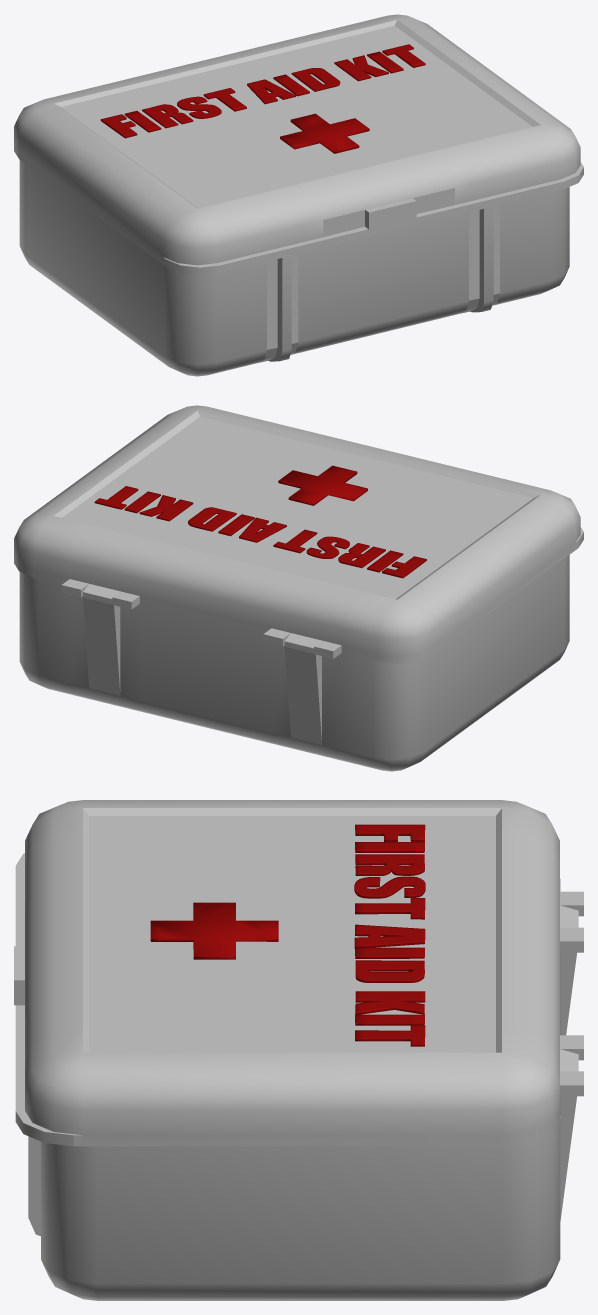
Rendered from FirstAidKit.FBX.
3 renders of one model, top to bottom at view 1: azimuth 30°, elevation 25°; view 2: azimuth 150°, elevation 25°; view 3: azimuth 270°, elevation 25°, orthographic. The views are drawn at different scales.
Visible parts, largest first — view 1: FirstAidKit; view 2: FirstAidKit; view 3: FirstAidKit.
Part boxes in pixels (x1,y1,x2,y2): FirstAidKit: (14, 14, 583, 376); FirstAidKit: (14, 405, 583, 771); FirstAidKit: (14, 800, 583, 1300).
Size of the model in its own units: 58.16 by 22.7 by 47.68.
